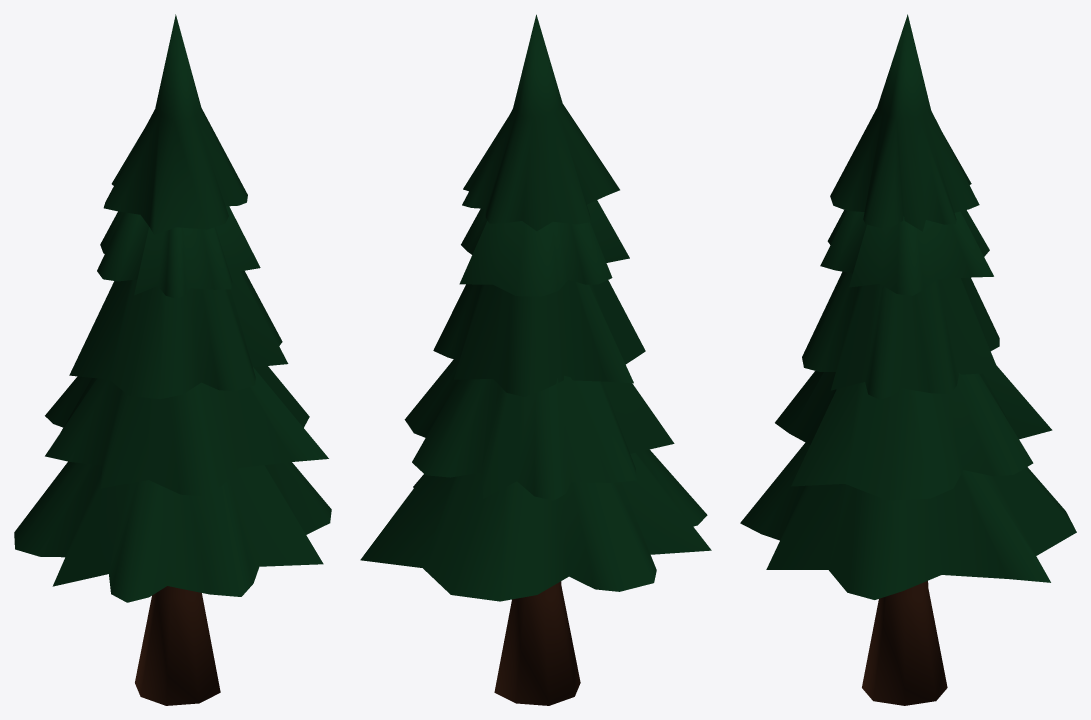
The model's file is fir_tree.glb.
The picture shows the model from 3 angles, left to right: view 1: azimuth 30°, elevation 25°; view 2: azimuth 150°, elevation 25°; view 3: azimuth 270°, elevation 25°; orthographic projection.
Visible parts, largest first — view 1: fir_tree; view 2: fir_tree; view 3: fir_tree.
Boxes of the visible parts, x1,y1,x2,y2 form: fir_tree: [14, 14, 331, 705]; fir_tree: [360, 14, 711, 705]; fir_tree: [740, 14, 1076, 705].
Bounding box in the file's own units: 3.67 × 8.17 × 3.7.
